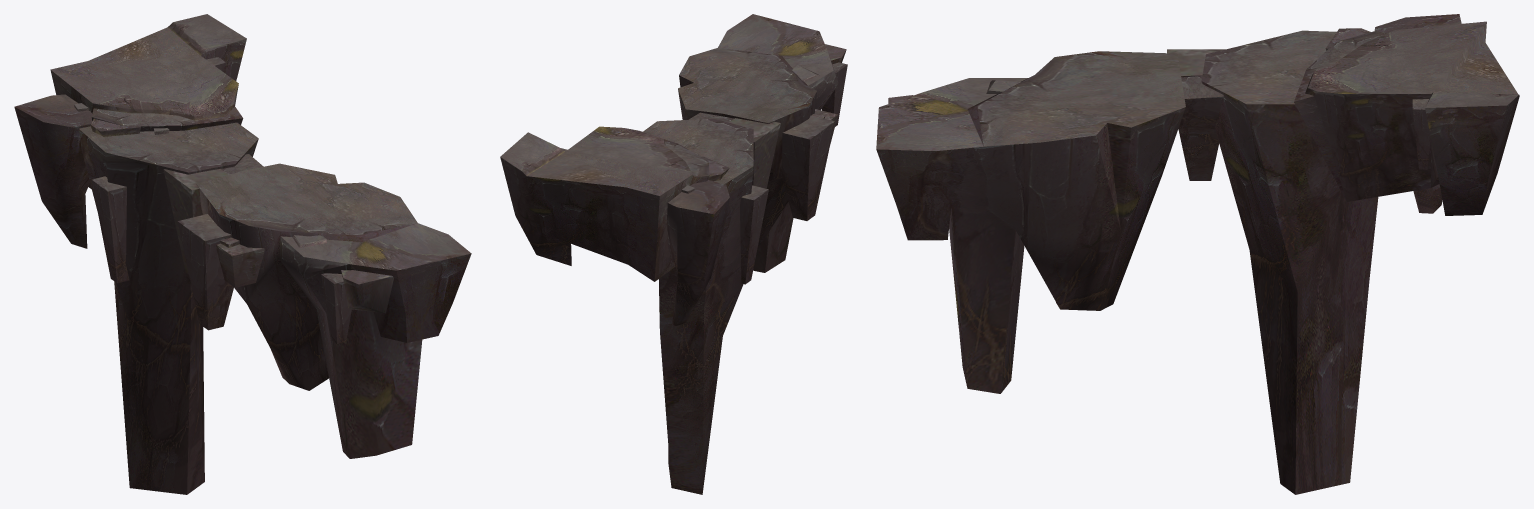
Rendered from yw_shibalipo_fengbianshi03.FBX.
3 views of the same model, side by side, from view 1: azimuth 30°, elevation 25°; view 2: azimuth 150°, elevation 25°; view 3: azimuth 270°, elevation 25° (orthographic). The views are drawn at different scales.
Parts seen in each view (by area): view 1: yw_shibalipo_fengbianshi03; view 2: yw_shibalipo_fengbianshi03; view 3: yw_shibalipo_fengbianshi03.
Part boxes in pixels (box(x1,y1,x2,y2)): yw_shibalipo_fengbianshi03: box(14, 14, 471, 494); yw_shibalipo_fengbianshi03: box(500, 14, 847, 494); yw_shibalipo_fengbianshi03: box(876, 14, 1519, 494).
Size of the model in its own units: 773 by 1305 by 1692.
